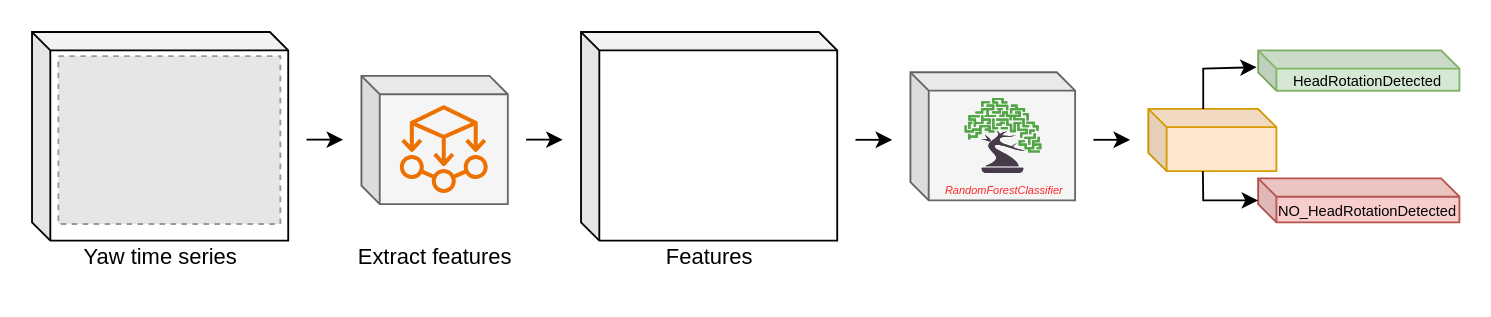
This 1491x317 diagram has some shape labels left out. Grey dashed boxes stand in for pictures. The centre of each missing label's shape, as x and y in pixels:
Classify: point 1211,139
num_peaks num_troughs amplitude_peaks average_yaw yaw_range std_yaw: point 708,135
